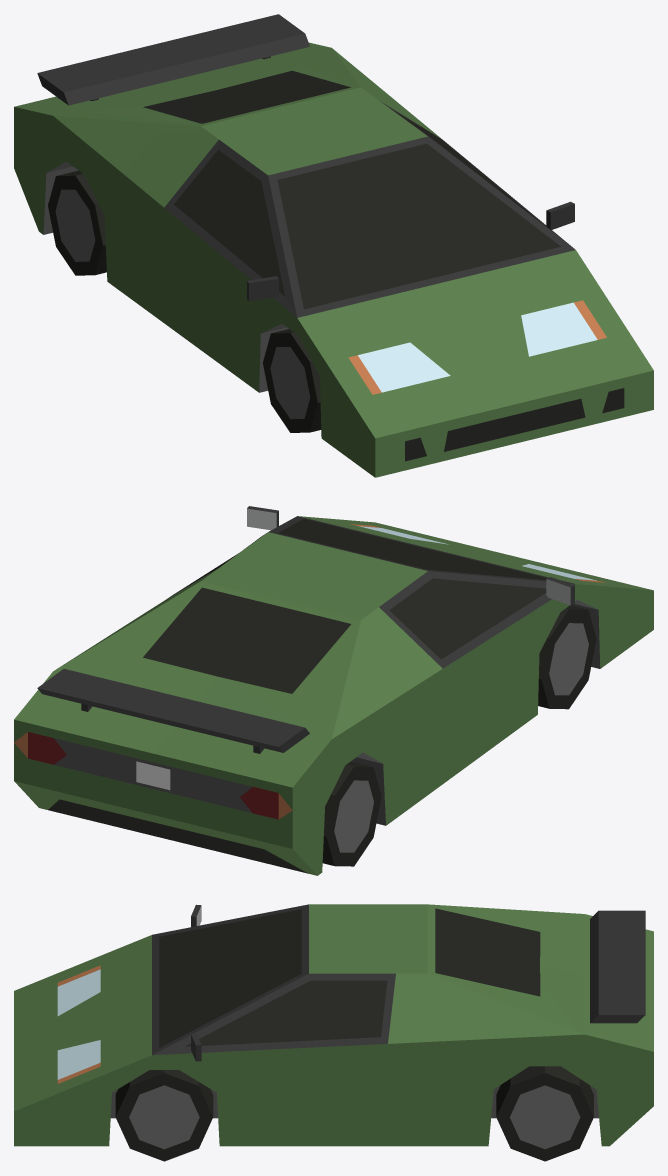
The model's file is Veh_Sports_Car_02_Green.glb.
3 renders of one model, top to bottom at view 1: azimuth 30°, elevation 25°; view 2: azimuth 150°, elevation 25°; view 3: azimuth 270°, elevation 25°, orthographic. The views are drawn at different scales.
Parts seen in each view (by area): view 1: Sports_Car_02_Green, Wheel_RR, Wheel_FR; view 2: Sports_Car_02_Green, Wheel_RR, Wheel_FR; view 3: Sports_Car_02_Green, Wheel_RL, Wheel_FL.
Boxes of the visible parts, <box> form: Sports_Car_02_Green: <box>14,14,653,477</box>; Wheel_RR: <box>48,170,106,275</box>; Wheel_FR: <box>263,329,321,432</box>; Sports_Car_02_Green: <box>14,506,653,875</box>; Wheel_RR: <box>322,761,381,866</box>; Wheel_FR: <box>538,605,596,709</box>; Sports_Car_02_Green: <box>14,904,653,1146</box>; Wheel_RL: <box>496,1066,593,1161</box>; Wheel_FL: <box>115,1070,213,1161</box>.
Size of the model in its own units: 1.28 by 0.6906 by 2.47.
1 material, 1 textured.
